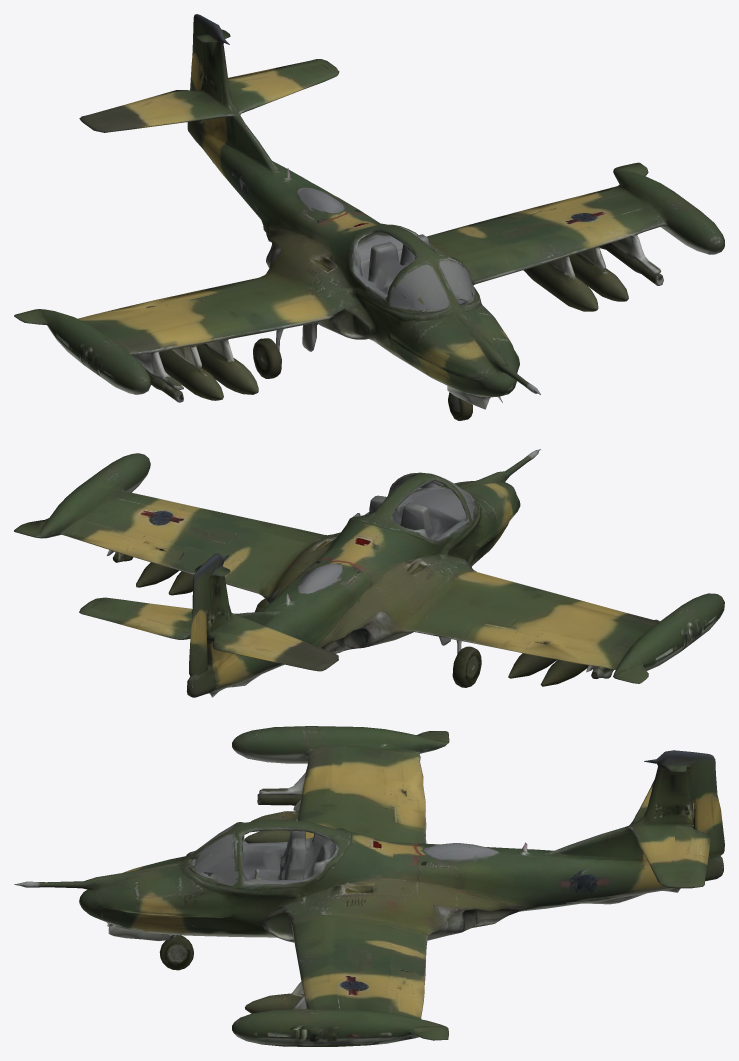
The picture shows the model from 3 angles, top to bottom: view 1: azimuth 30°, elevation 25°; view 2: azimuth 150°, elevation 25°; view 3: azimuth 270°, elevation 25°; orthographic projection.
Visible parts, largest first — view 1: tripo_node_e4932629; view 2: tripo_node_e4932629; view 3: tripo_node_e4932629.
Boxes of the visible parts, x1,y1,x2,y2 form: tripo_node_e4932629: (14,14,724,420); tripo_node_e4932629: (14,449,724,697); tripo_node_e4932629: (14,726,724,1046).
Bounding box in the file's own units: 9.18 × 3.05 × 8.92.
Materials: 1 (1 with a texture image).
